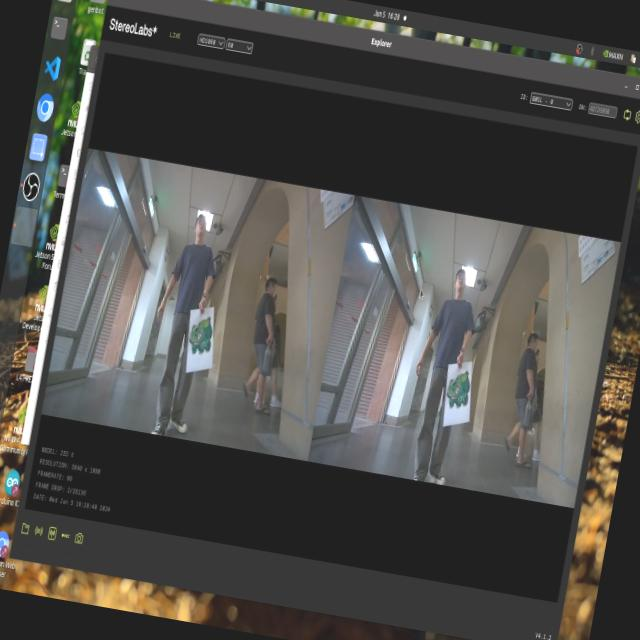green: (436, 364, 474, 424), (186, 314, 219, 362)
